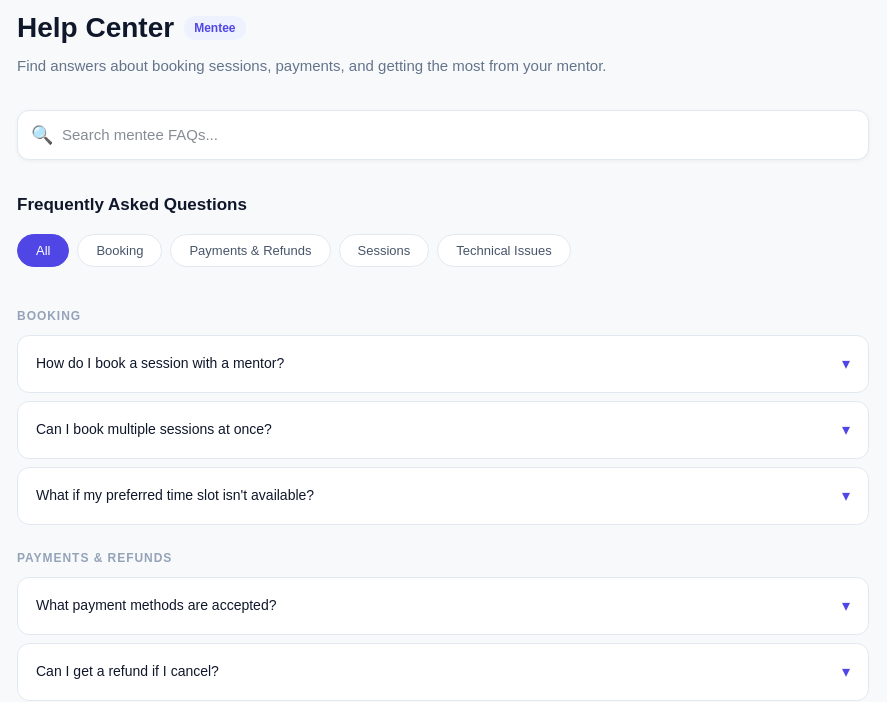
HelpCenter Component Suite › should filter FAQs based on search query matching the question
Type "refund" into the field with placeholder "Search mentee FAQs...". click: {"x": 443, "y": 135}
box: [17,110,869,160]
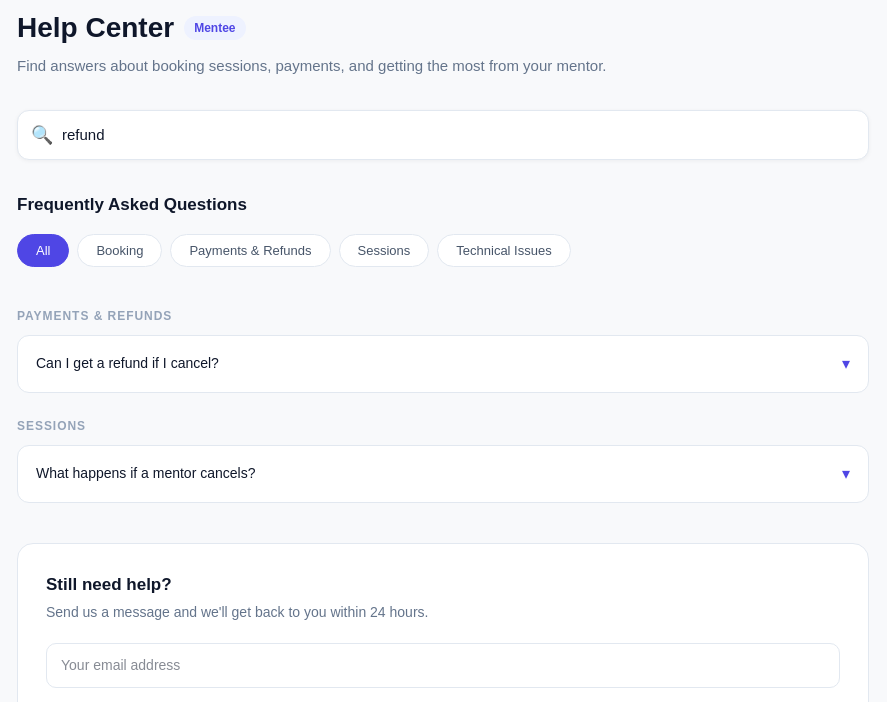
Expected: the text "Can I get a refund if I cancel?" is shown, [36,354,219,374]
Expected: the button "How do I book a session with a mentor?" is gone
